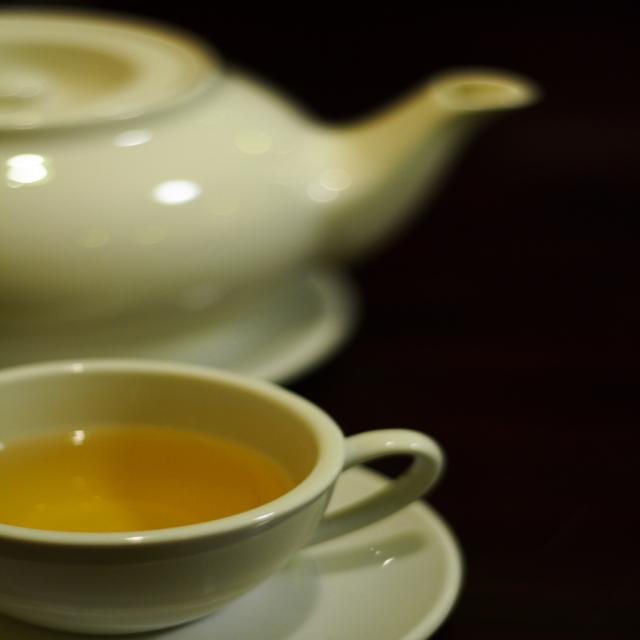Tea: (0, 424, 297, 532)
